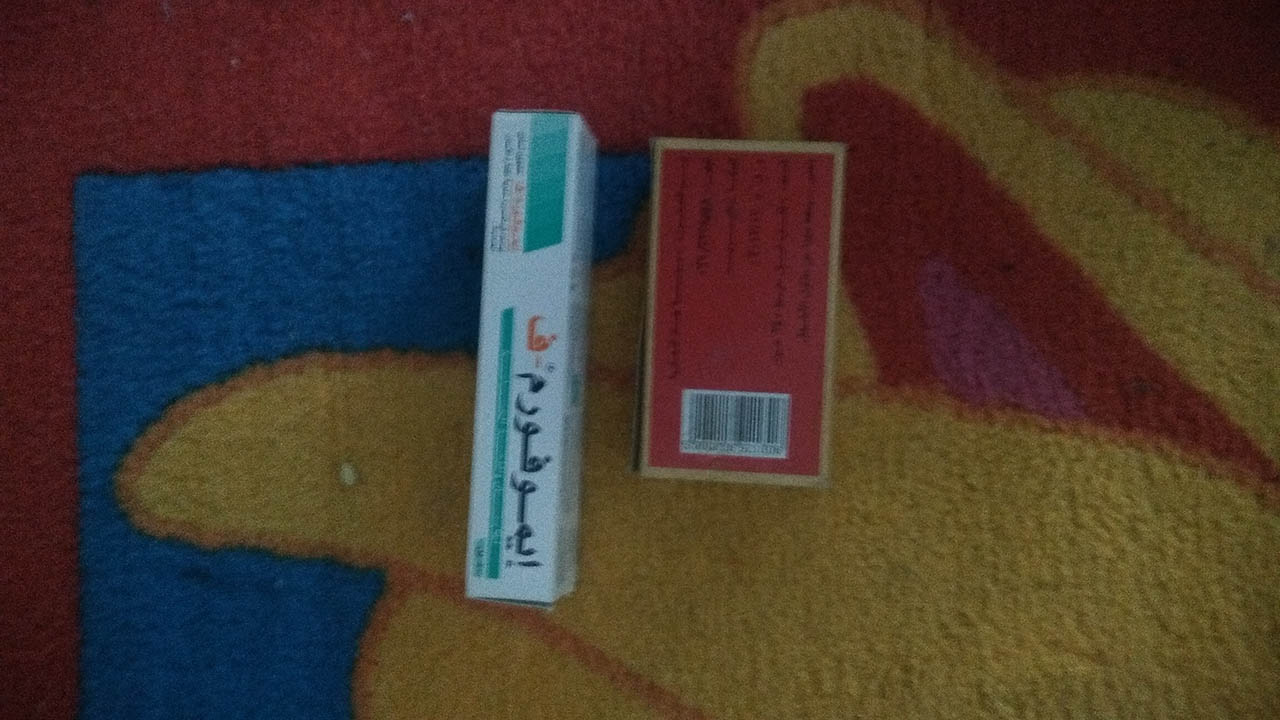Toothpaste-F 1.5$: (441, 92, 621, 625)
match-sticks .90$: (624, 102, 906, 497)
